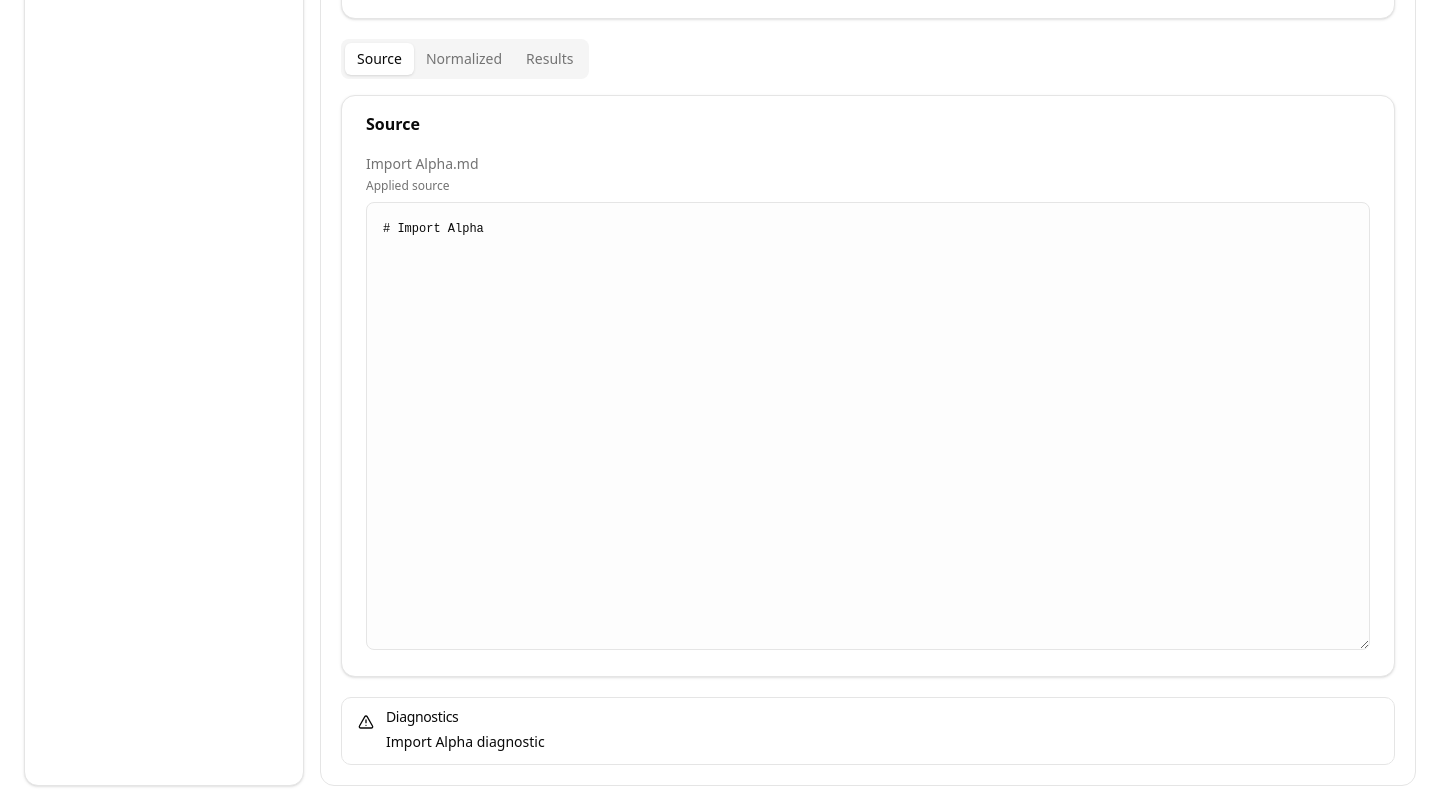
Scenario: workbench app › keeps the applied report when source JSON is invalid
(page scrolled)
Step 1. Replace the text in the text box named "Import Alpha.md" with "not json" → (868, 426), box [366,202,1370,650]
(page scrolled)
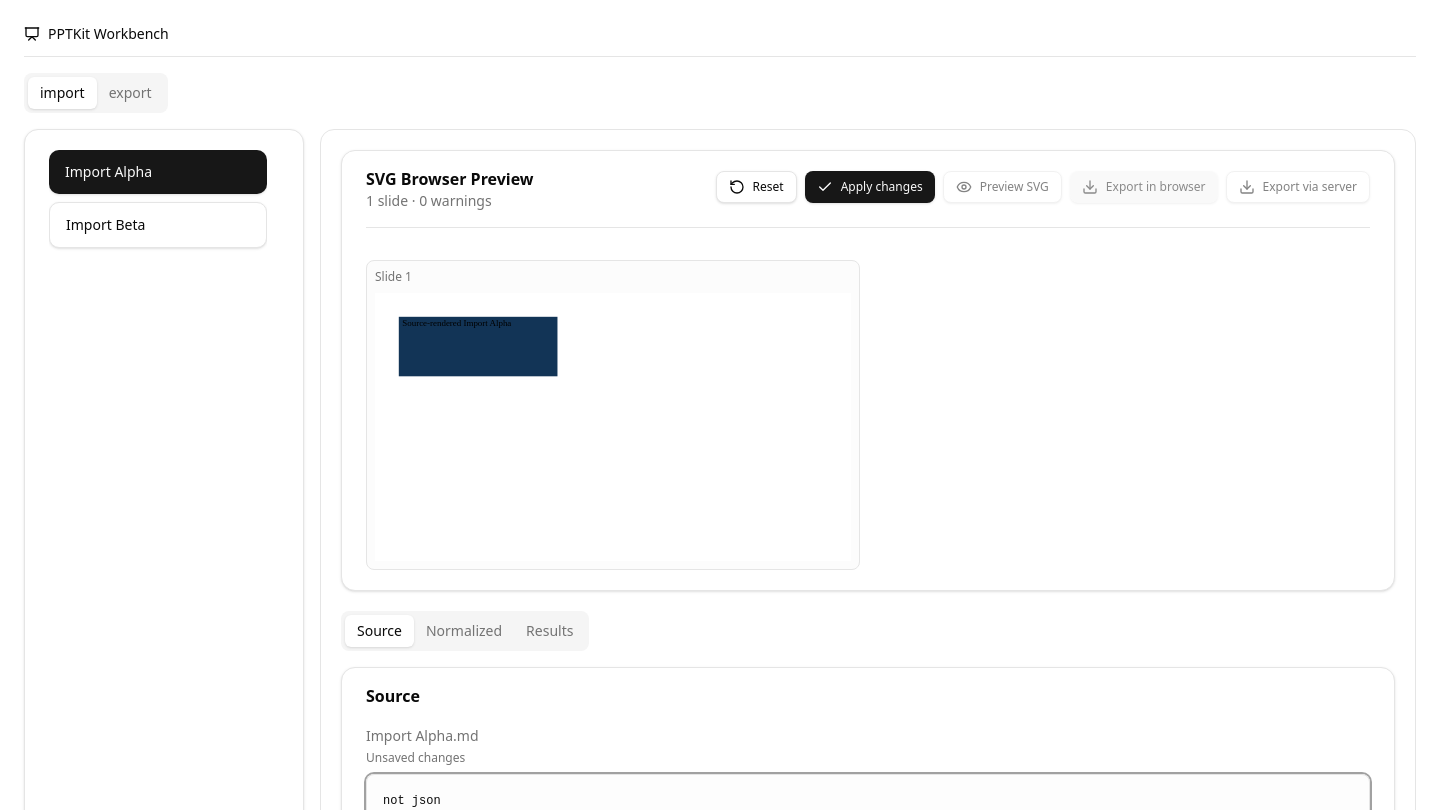
Step 2. Click the button "Apply changes" → (870, 187), box [805,171,935,203]
(page scrolled)
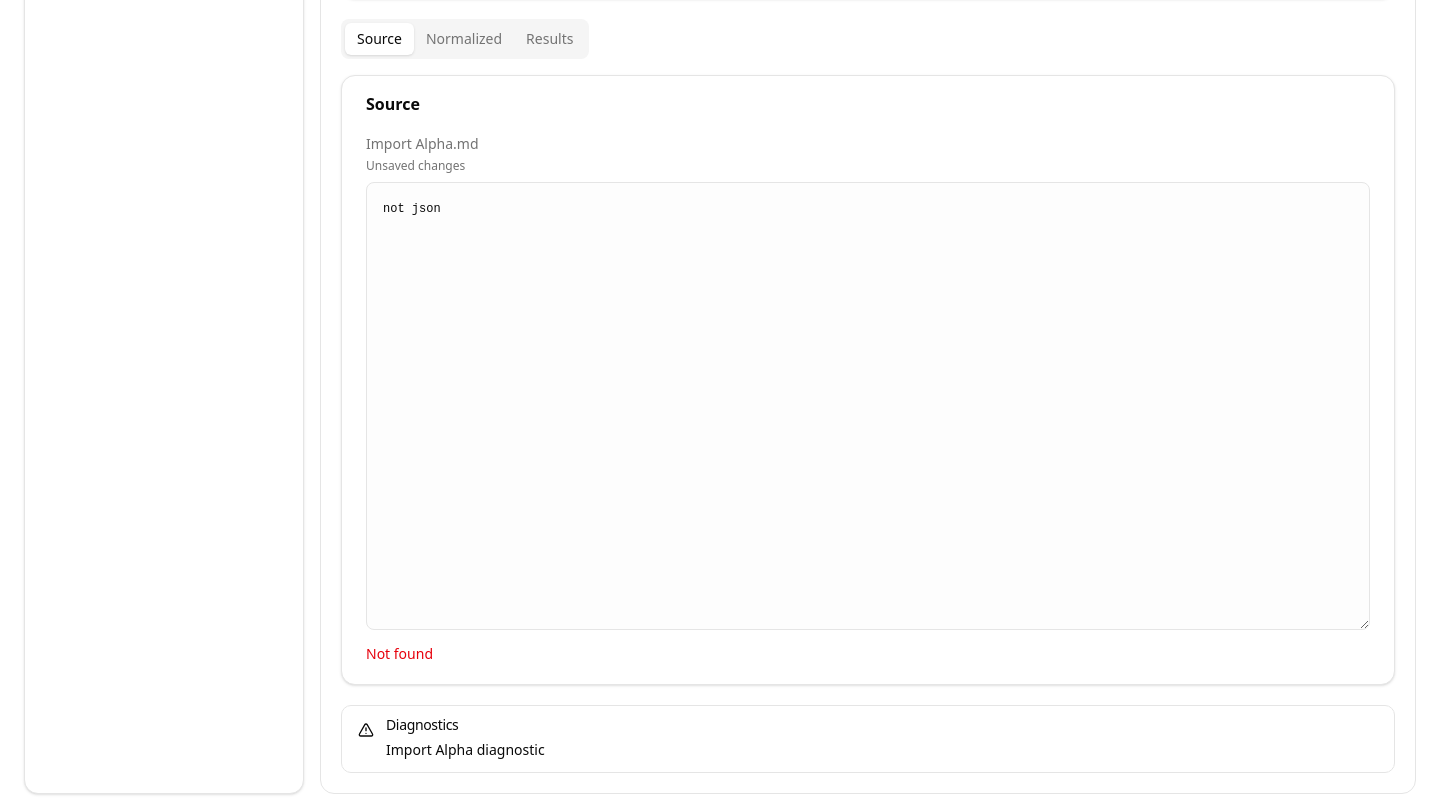
Expected: the text "Not found" is shown, [366,644,433,663]
